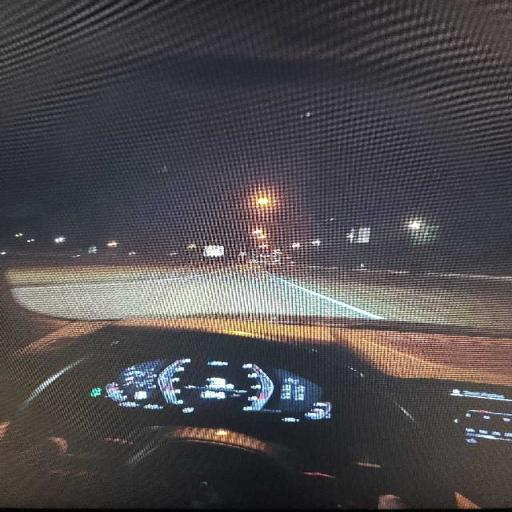car: (0, 319, 511, 508)
lane: (12, 268, 377, 319), (273, 266, 511, 331)
